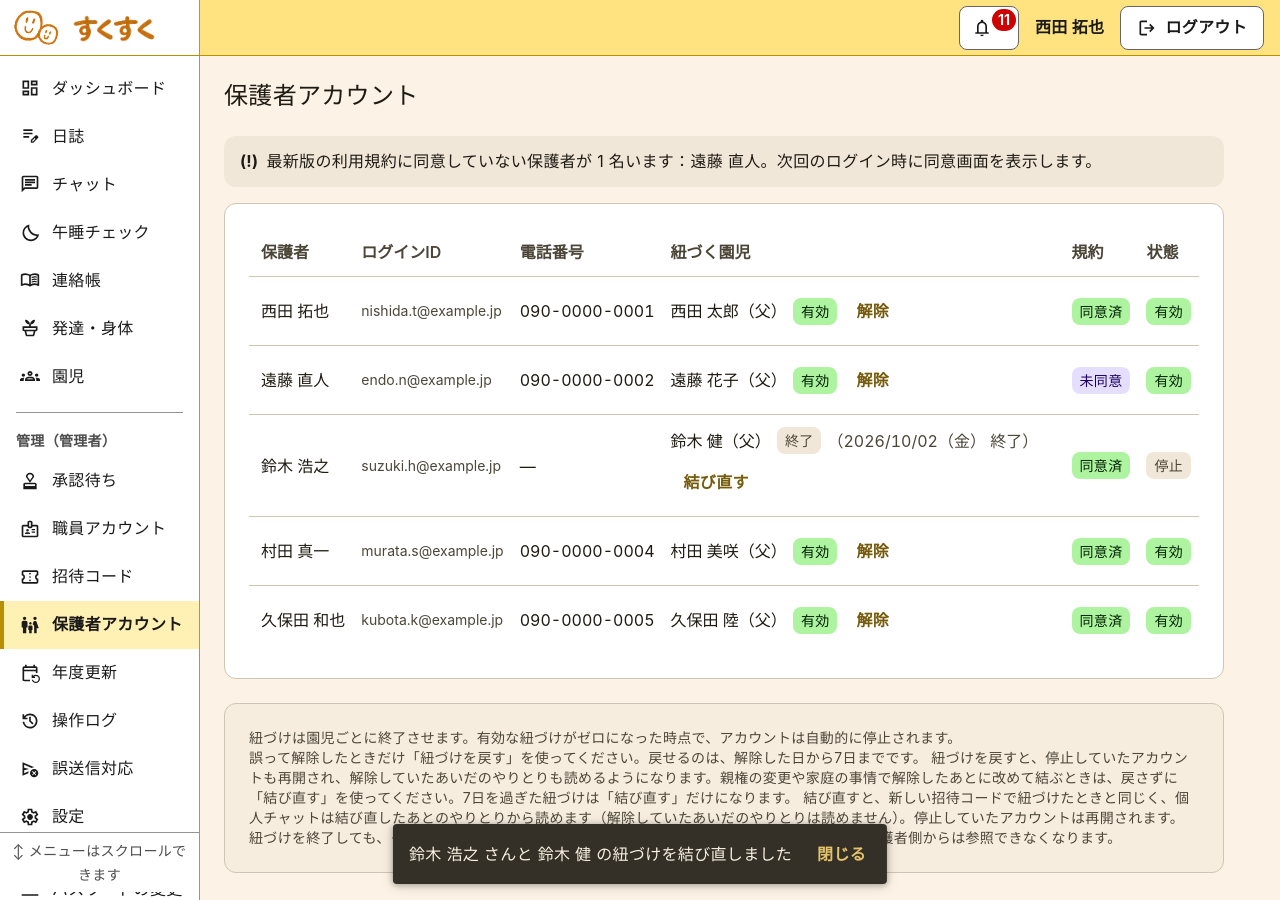
Test: 戻せる期間を過ぎた紐づけには「紐づけを戻す」でなく「結び直す」を出し、読めない範囲を示す
Click the button "結び直す" at (716, 482), box [670,460,762,504]
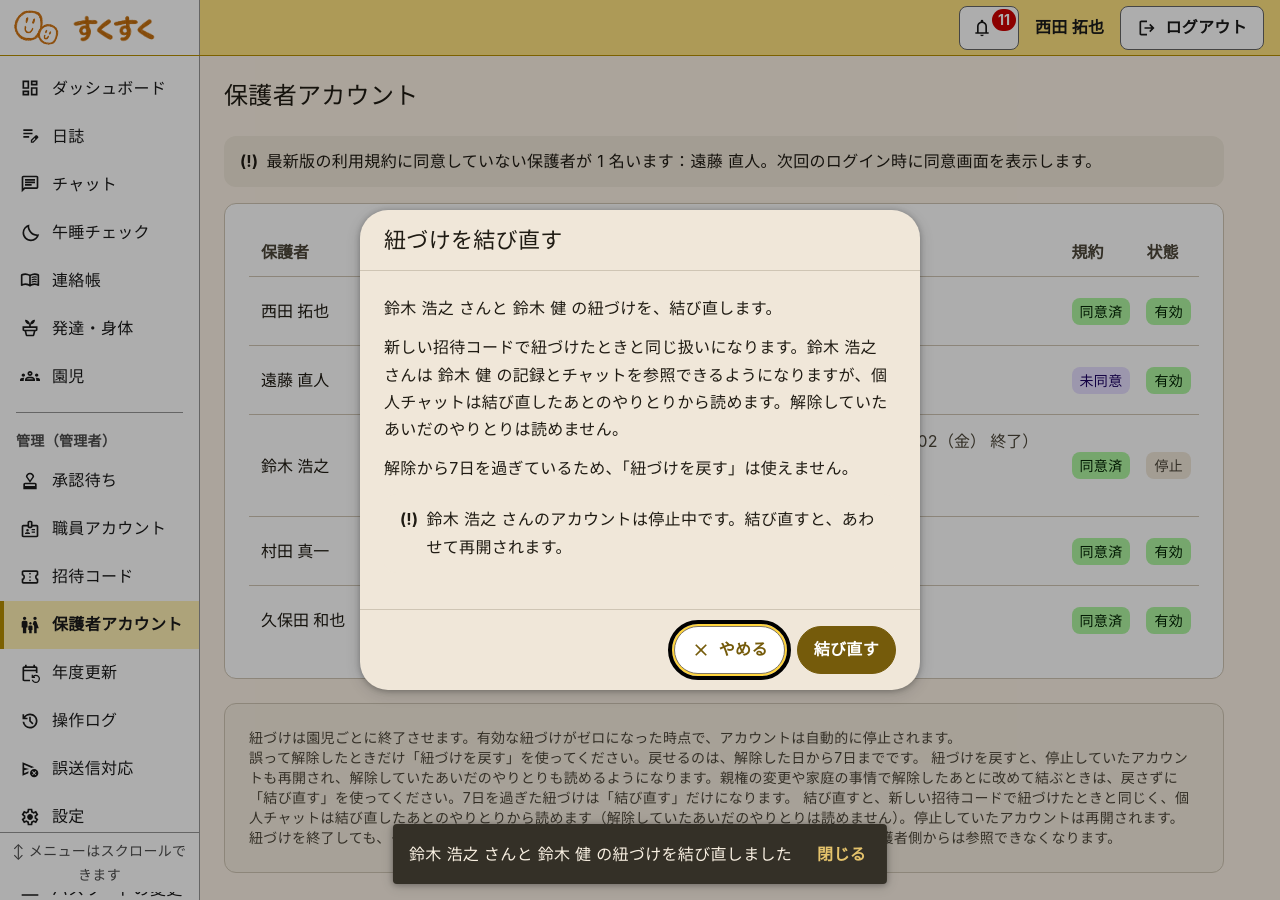
expect the dialog "紐づけを結び直す" shows "新しい招待コードで紐づけたときと同じ扱い": met, box [384,337,807,357]
expect the dialog "紐づけを結び直す" shows "解除していたあいだのやりとりは読めません": met, box [384,365,888,439]
expect the dialog "紐づけを結び直す" shows "結び直すと、あわせて再開されます": met, box [426,509,874,557]
